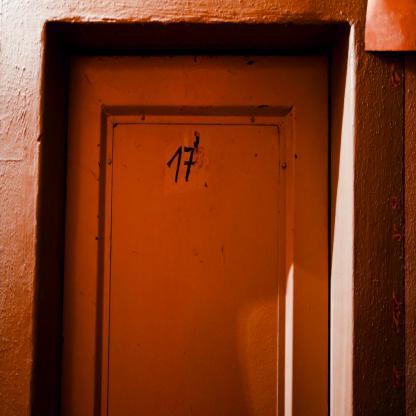door: (108, 114, 290, 416)
